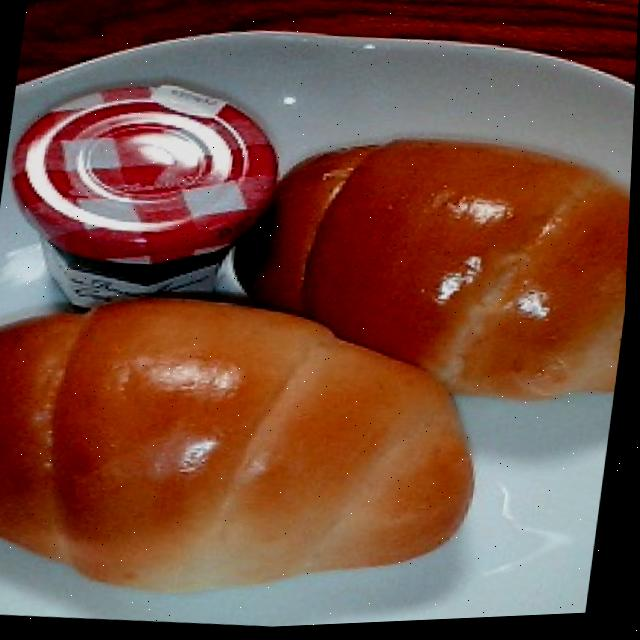面包点心: (0, 261, 499, 627)
